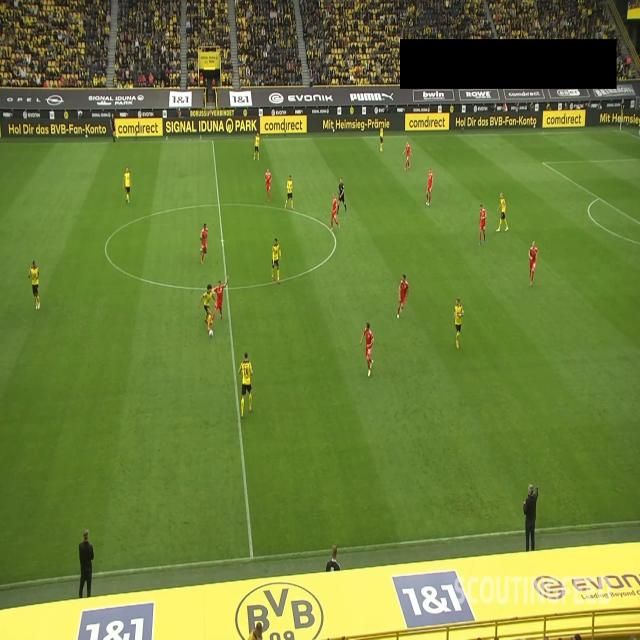ball: (208, 328, 214, 338)
